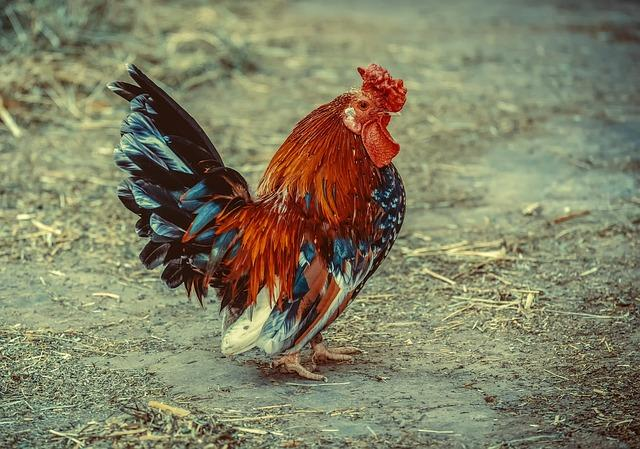Non_Gorille: (16, 5, 451, 409)
